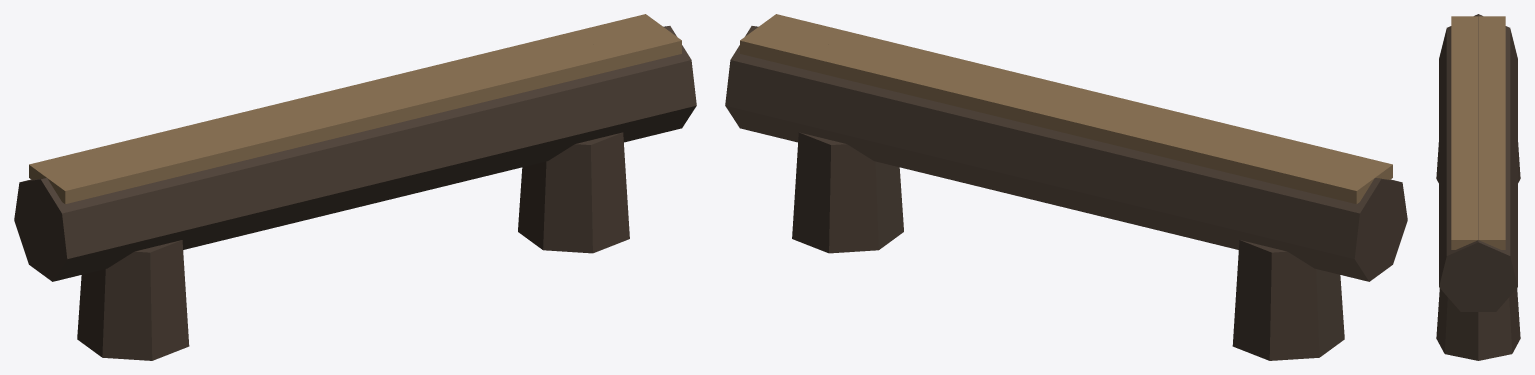
Rendered from log_bench.glb.
The picture shows the model from 3 angles, left to right: view 1: azimuth 30°, elevation 25°; view 2: azimuth 150°, elevation 25°; view 3: azimuth 270°, elevation 25°; orthographic projection. The views are drawn at different scales.
Parts seen in each view (by area): view 1: split log seat, worn seat face, stump leg.001, stump leg; view 2: split log seat, worn seat face, stump leg.001, stump leg; view 3: worn seat face, split log seat, stump leg.001, stump leg.
Part boxes in pixels (box(x1,y1,x2,y2)): split log seat: box(14, 26, 696, 281); worn seat face: box(29, 14, 681, 204); stump leg.001: box(518, 132, 629, 253); stump leg: box(77, 240, 189, 360); split log seat: box(725, 26, 1407, 281); worn seat face: box(740, 14, 1392, 204); stump leg.001: box(792, 132, 903, 253); stump leg: box(1232, 240, 1344, 360); worn seat face: box(1451, 16, 1505, 249); split log seat: box(1439, 14, 1517, 311); stump leg.001: box(1436, 288, 1520, 360); stump leg: box(1436, 142, 1520, 182).
Size of the model in its own units: 1 by 0.275 by 0.156.
